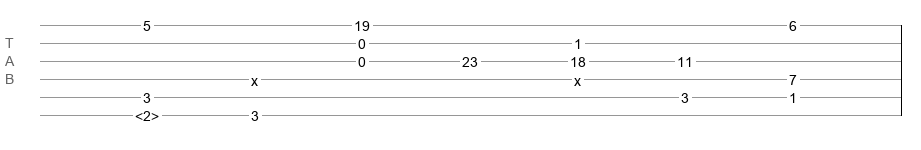0: (358, 54, 366, 64), (358, 36, 366, 46)
1: (574, 36, 582, 46), (789, 90, 797, 100)
11: (677, 54, 693, 64)
18: (570, 54, 586, 64)
19: (354, 18, 370, 28)
23: (462, 54, 478, 64)
3: (143, 90, 151, 100), (251, 108, 259, 118), (681, 90, 689, 100)
5: (143, 18, 151, 28)
6: (789, 18, 797, 28)
7: (789, 72, 797, 82)
harmonic: (135, 108, 159, 118)
x: (251, 73, 258, 81), (574, 73, 581, 81)
